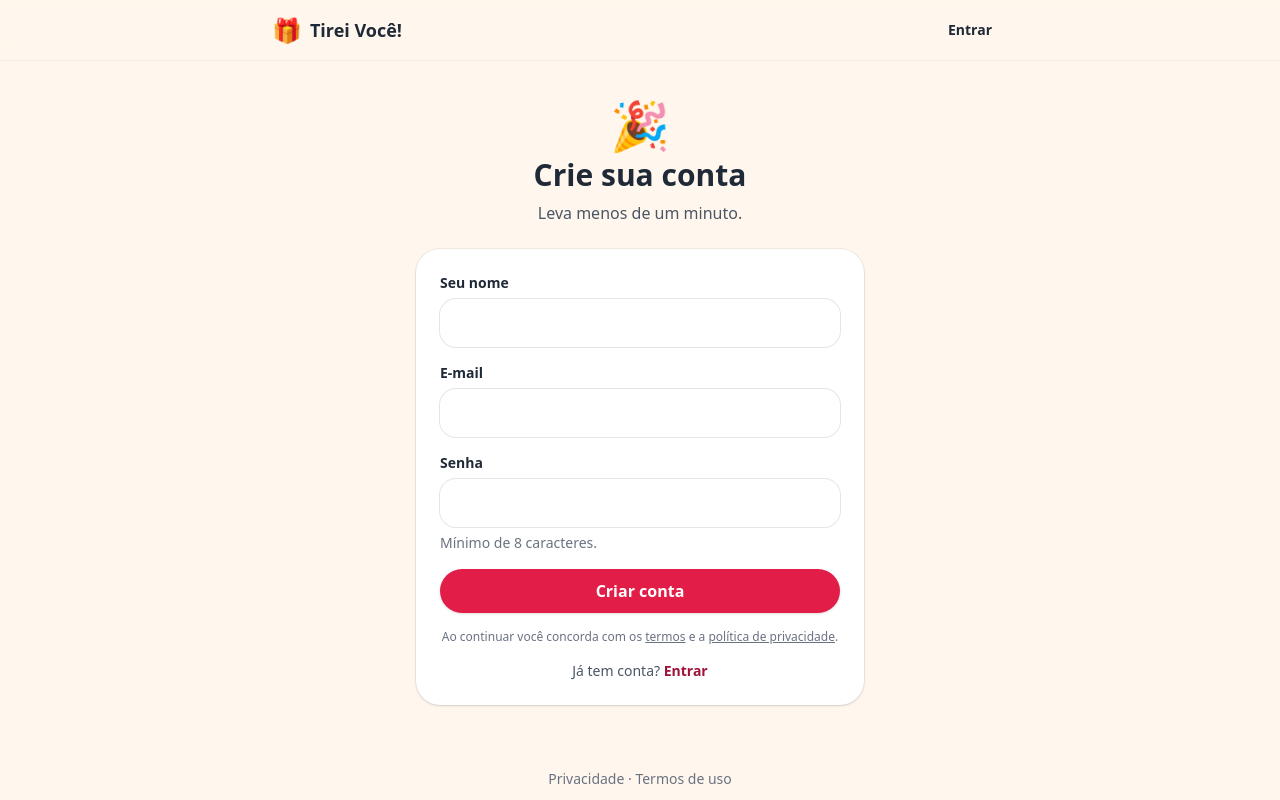
Scenario: cadastro leva para a tela de confirmar e-mail
The width and height of the screenshot is (1280, 800).
Type "Ana" into the field labelled "Seu nome" at (640, 323), box [440,299,840,347]
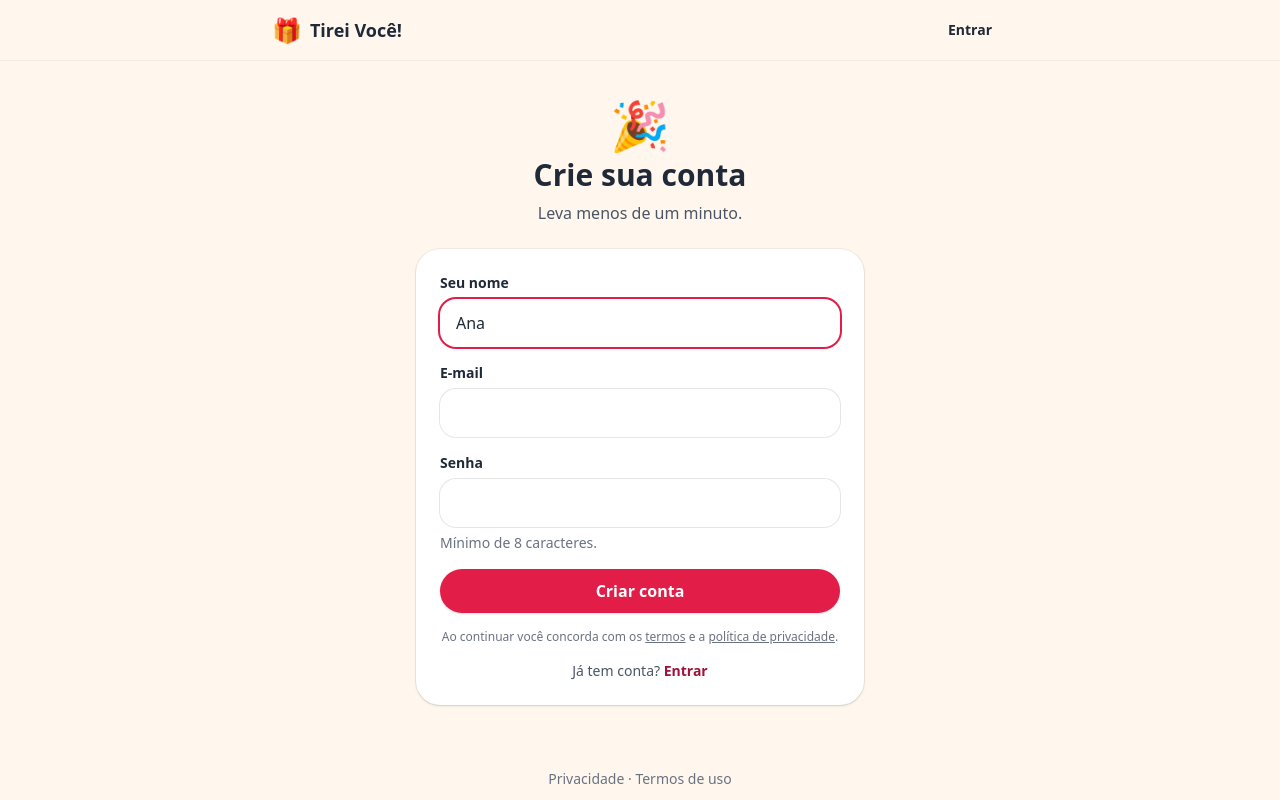
Type "ana@example.com" into the field labelled "E-mail" at (640, 413), box [440,389,840,437]
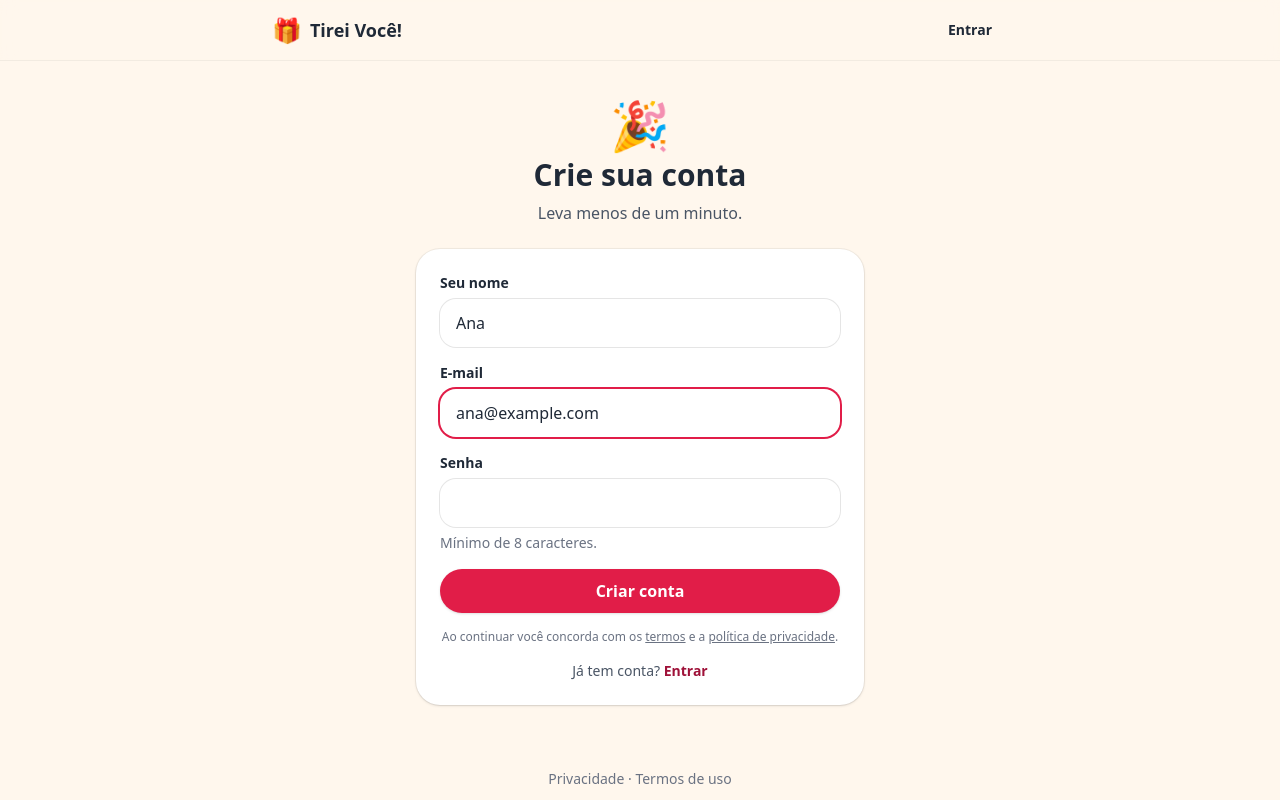
Type "uma-senha-forte" into the password field labelled "Senha" at (640, 503), box [440,479,840,527]
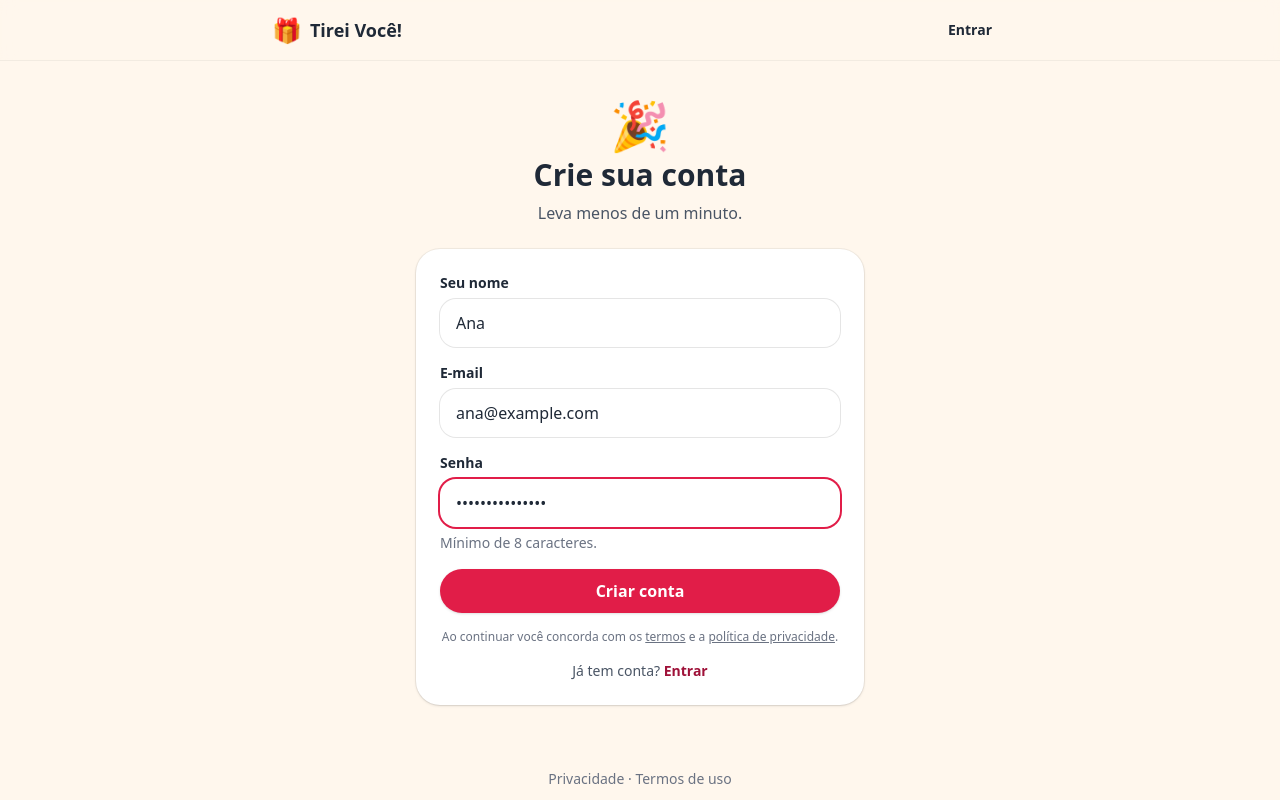
Click the button "Criar conta" at (640, 591), box [440,569,840,613]
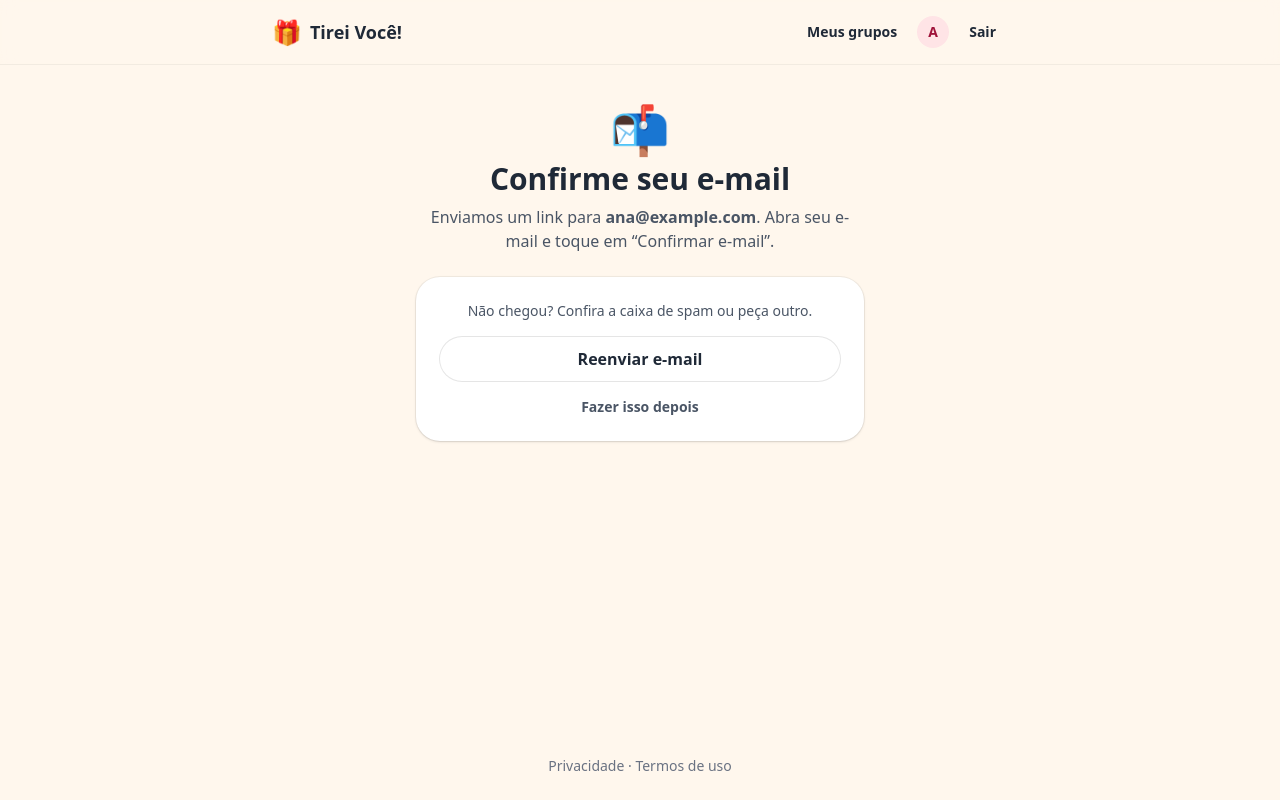
Check: the text "ana@example.com" is shown, box [605,206,756,228]
